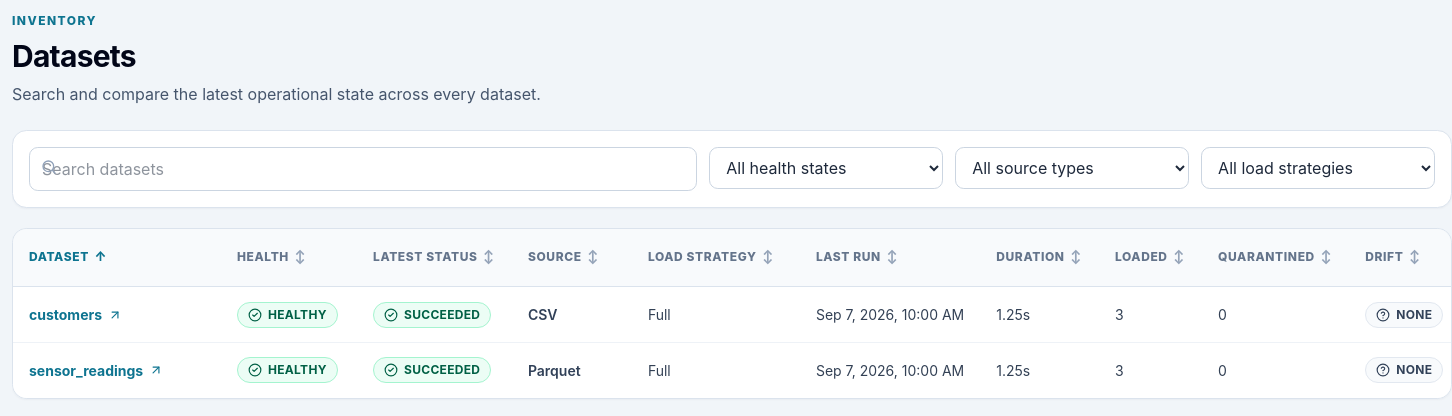
Test: filters the dataset inventory
This screenshot has width=1452, height=416.
Check: the link "customers" is shown, box x1=29 y1=304 x2=122 y2=325
Type "sensor" into the field with placeholder "Search datasets". click: [363, 169]
box: x1=29 y1=147 x2=697 y2=191
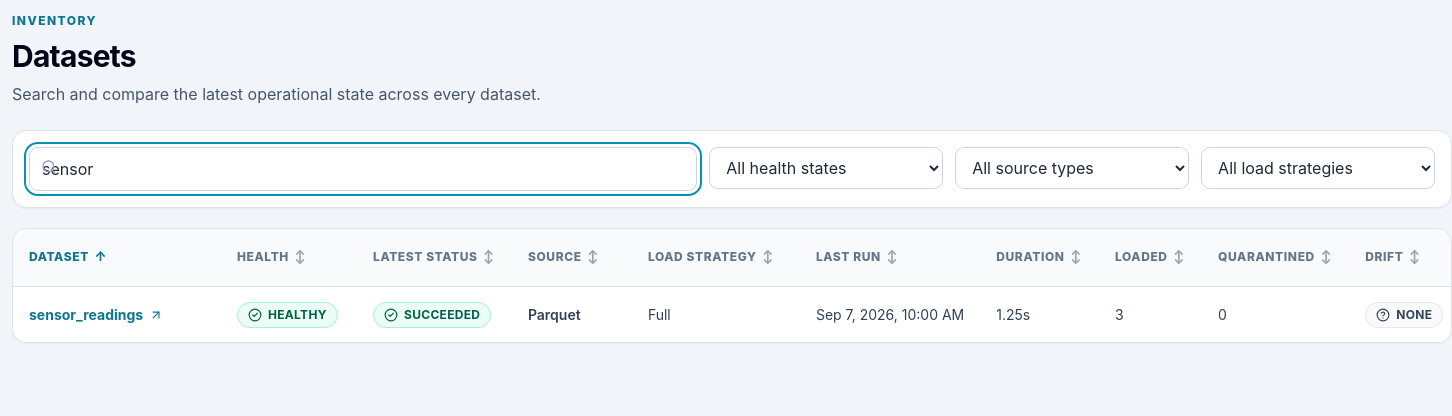
Check: the link "sensor_readings" is shown, box x1=29 y1=304 x2=163 y2=325
Check: the link "customers" is gone
